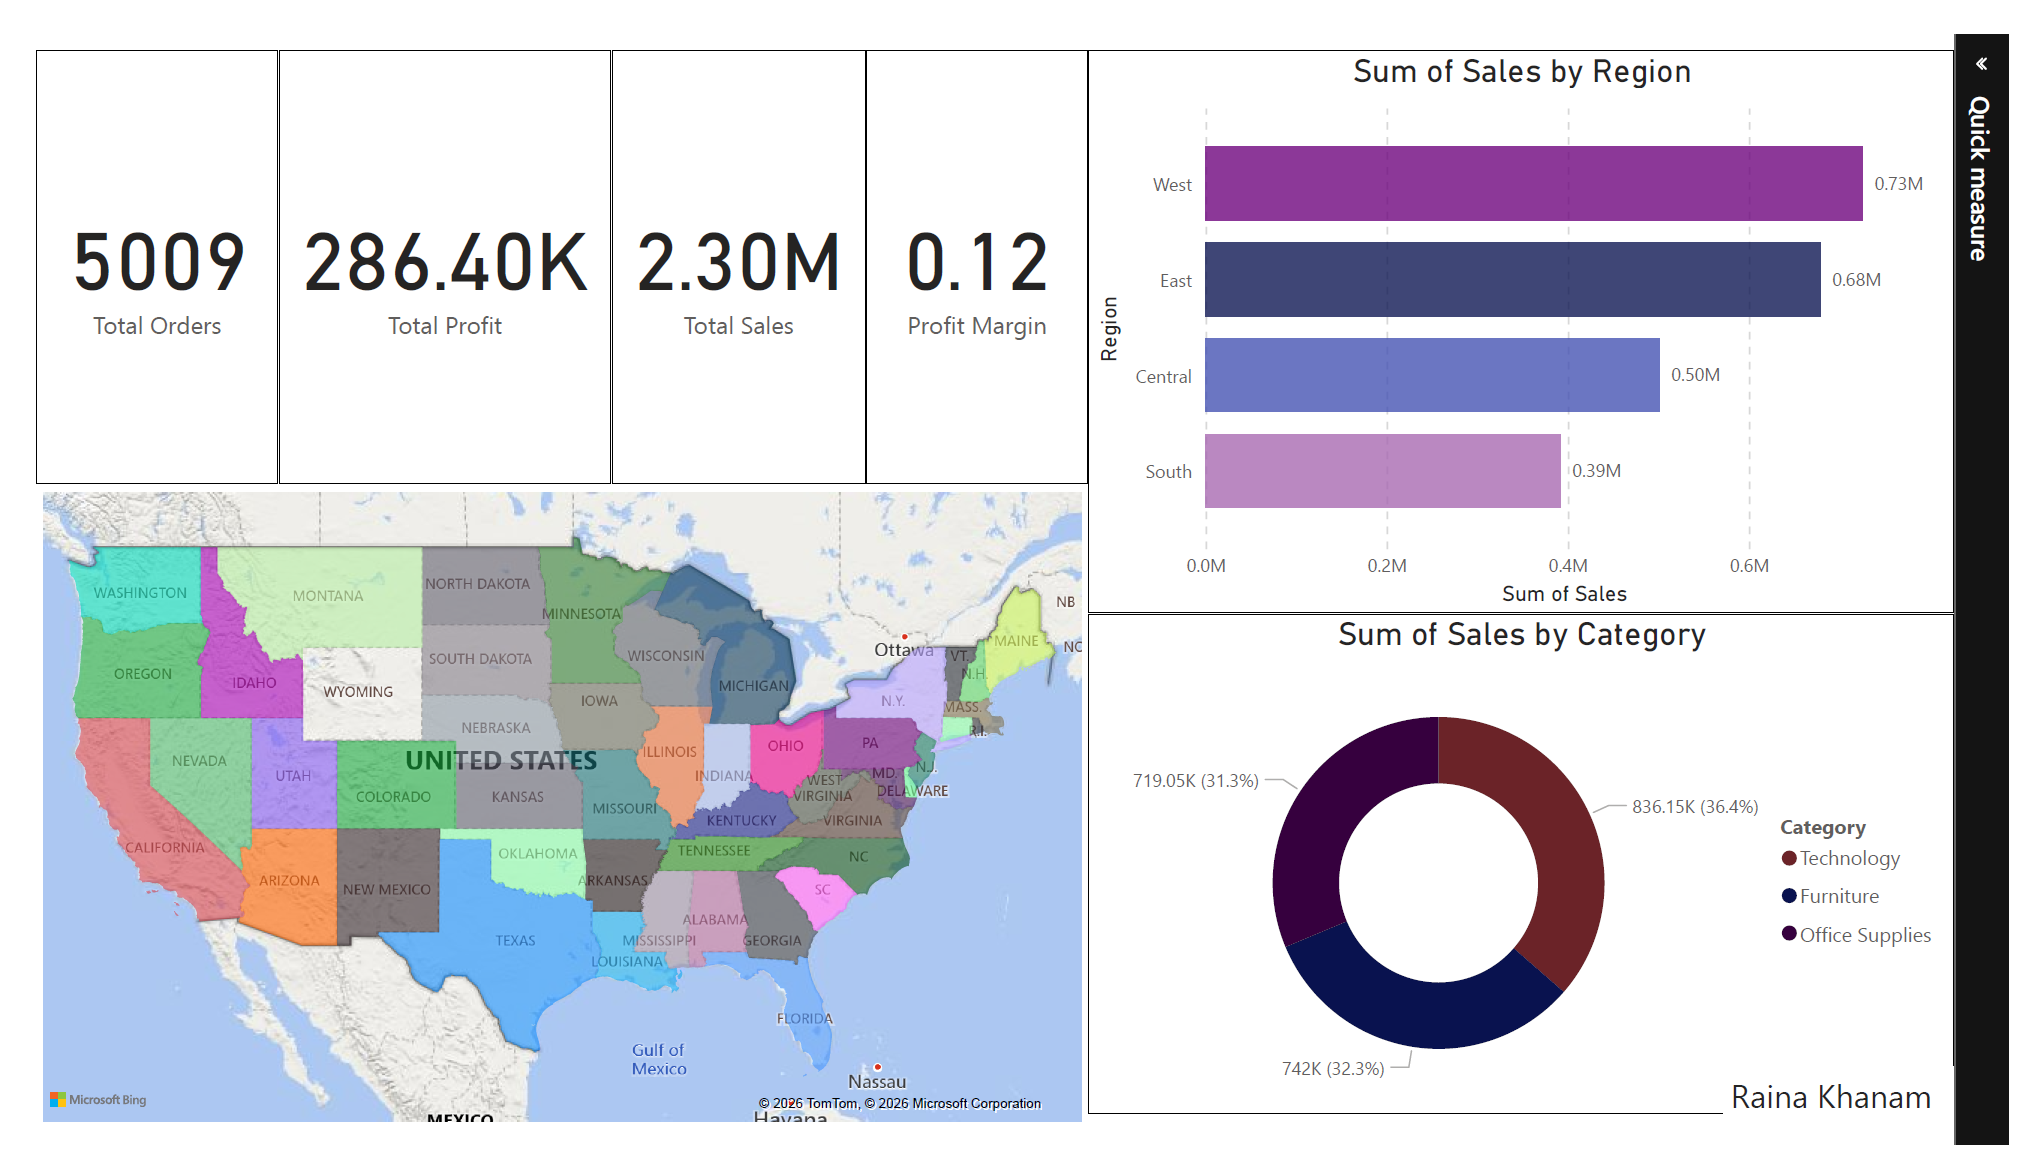

What the dashboard file says about the page in this screenshot:
{"tool":"powerbi","page":{"name":"Executive Overview","canvas":[1280,720],"ordinal":0},"visuals":[{"type":"filledMap","fields":{"Category":["superstore.State"],"Series":["superstore.Sales"]},"box":[0,290,702.5,430],"z":2},{"type":"barChart","fields":{"Y":["Sum(superstore.Sales)"],"Category":["superstore.Region"]},"box":[702,0,578,376],"z":3},{"type":"donutChart","fields":{"Y":["Sum(superstore.Sales)"],"Category":["superstore.Category"]},"box":[702,376,578,334],"z":4},{"type":"card","fields":{"Values":["superstore.Total Orders"]},"box":[0,0,162,290],"z":5},{"type":"card","fields":{"Values":["superstore.Total Profit"]},"box":[162,0,222,290],"z":6},{"type":"card","fields":{"Values":["superstore.Total Sales"]},"box":[384,0,170,290],"z":7},{"type":"card","fields":{"Values":["superstore.Profit Margin"]},"box":[554,0,148,290],"z":8},{"type":"textbox","box":[1126,678,154,42],"z":9}]}

Visuals, with their boxes on the page's 1280x720 design canvas (x1, y1, x2, y2). These are canvas units, not pixel positions in the 2044x1170 screenshot, which may show the page scaled, cropped or inside an application window:
filledMap - superstore.State x superstore.Sales: 0/290/702/720
barChart - Sum(superstore.Sales) x superstore.Region: 702/0/1280/376
donutChart - Sum(superstore.Sales) x superstore.Category: 702/376/1280/710
card - superstore.Total Orders: 0/0/162/290
card - superstore.Total Profit: 162/0/384/290
card - superstore.Total Sales: 384/0/554/290
card - superstore.Profit Margin: 554/0/702/290
textbox: 1126/678/1280/720
